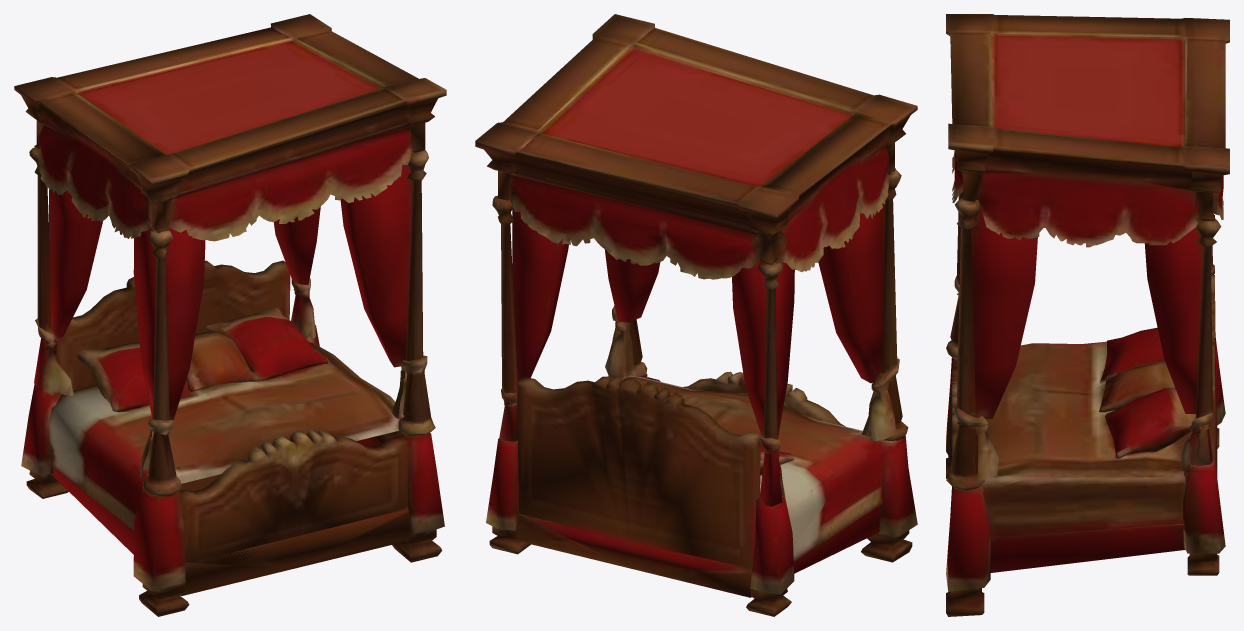
Rendered from wyn_furn_canopy_bed.glb.
3 renders of one model, left to right at view 1: azimuth 30°, elevation 25°; view 2: azimuth 150°, elevation 25°; view 3: azimuth 270°, elevation 25°, orthographic. The views are drawn at different scales.
Parts seen in each view (by area): view 1: tripo_node_fc333d6c-31bf-4e8c-a0b8-9a70a515bad0; view 2: tripo_node_fc333d6c-31bf-4e8c-a0b8-9a70a515bad0; view 3: tripo_node_fc333d6c-31bf-4e8c-a0b8-9a70a515bad0.
Part boxes in pixels (x1,y1,x2,y2): tripo_node_fc333d6c-31bf-4e8c-a0b8-9a70a515bad0: [14, 14, 446, 616]; tripo_node_fc333d6c-31bf-4e8c-a0b8-9a70a515bad0: [475, 14, 917, 616]; tripo_node_fc333d6c-31bf-4e8c-a0b8-9a70a515bad0: [946, 14, 1229, 616].
Size of the model in its own units: 1.53 by 2.3 by 1.24.
Materials: 1 (1 with a texture image).
